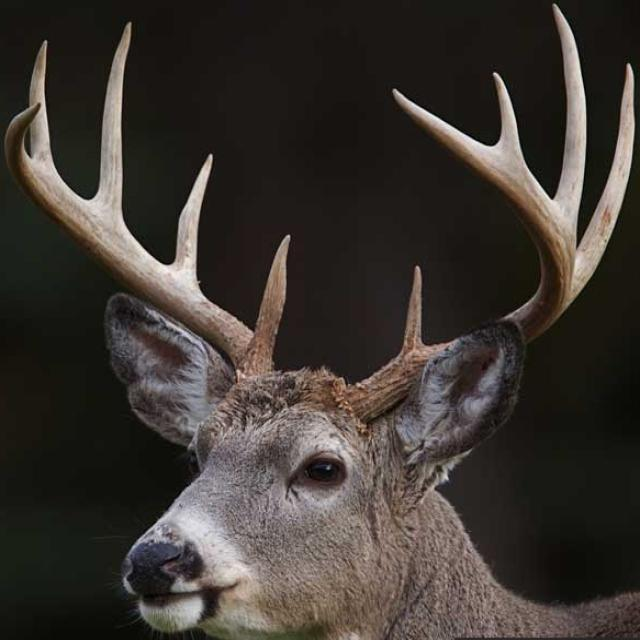L-G1: (399, 263, 426, 354)
L-G2: (569, 59, 636, 306)
L-G3: (550, 1, 588, 234)
L-G4: (490, 70, 528, 164)
R-F: (4, 100, 279, 375)
R-G1: (254, 231, 295, 353)
R-G2: (169, 150, 215, 289)
R-G3: (91, 19, 133, 225)
